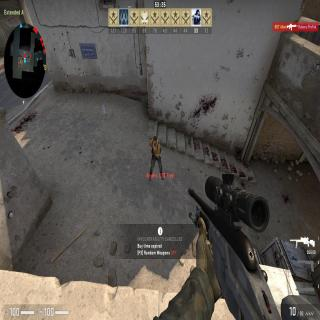T-Body: (148, 136, 163, 174)
T-Head: (152, 136, 158, 143)
